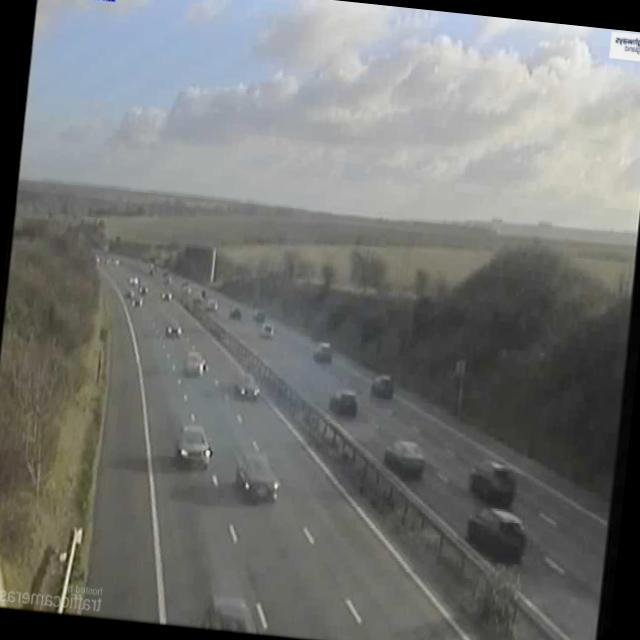foliage: (225, 245, 630, 503), (0, 220, 112, 591)
